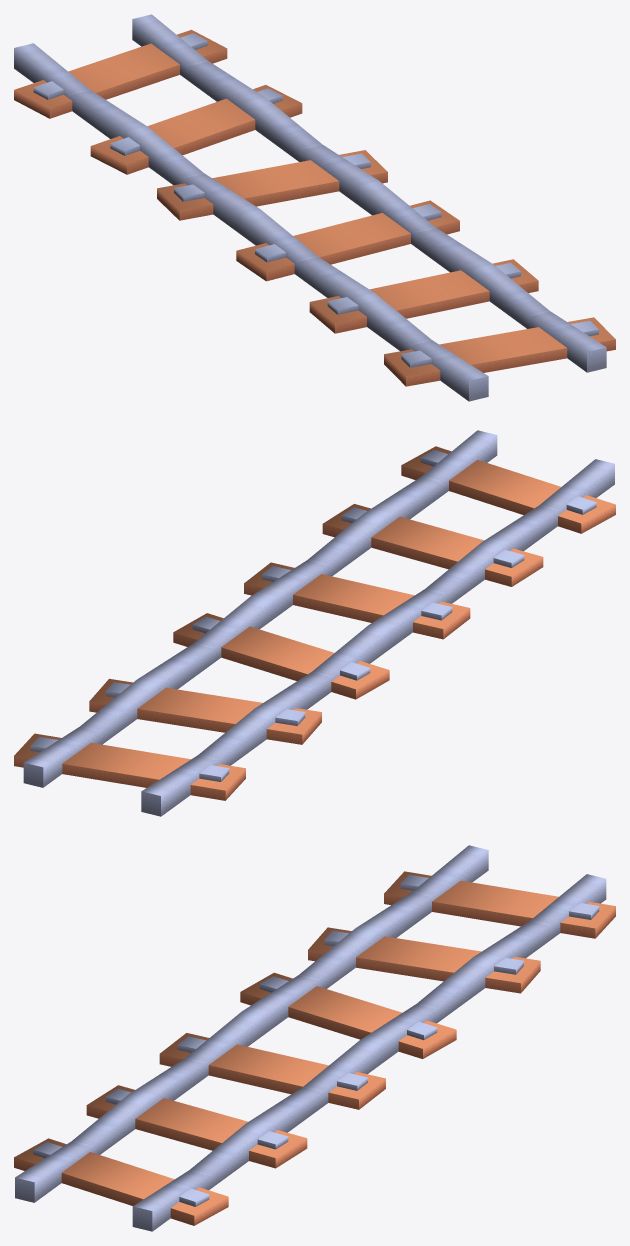
The model's file is railroad-damaged-straight.glb.
3 renders of one model, top to bottom at view 1: azimuth 30°, elevation 25°; view 2: azimuth 150°, elevation 25°; view 3: azimuth 330°, elevation 25°, orthographic.
Parts seen in each view (by area): view 1: railroad-damaged-straight; view 2: railroad-damaged-straight; view 3: railroad-damaged-straight.
Part boxes in pixels (x1,y1,x2,y2): railroad-damaged-straight: (14,14,615,401); railroad-damaged-straight: (14,430,615,816); railroad-damaged-straight: (14,845,615,1231).
Bounding box in the file's own units: 1.03 × 0.1001 × 4.
Materials: 1 (1 with a texture image).
